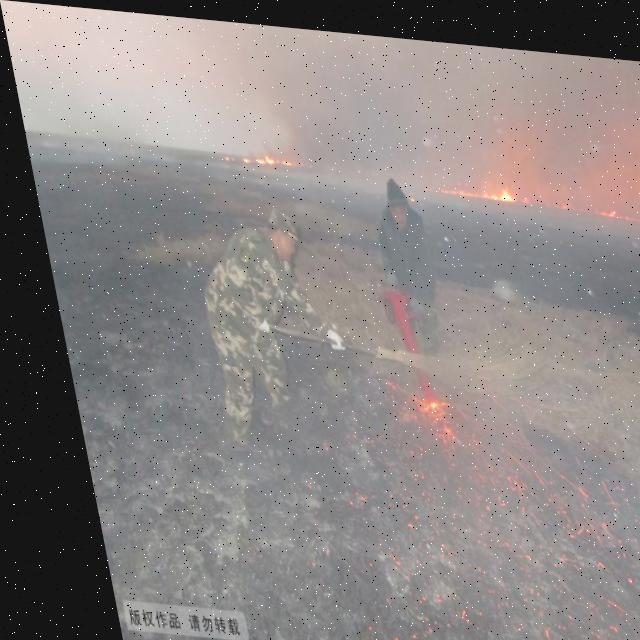Fire: (431, 164, 639, 213), (382, 370, 464, 448), (218, 140, 310, 170)
